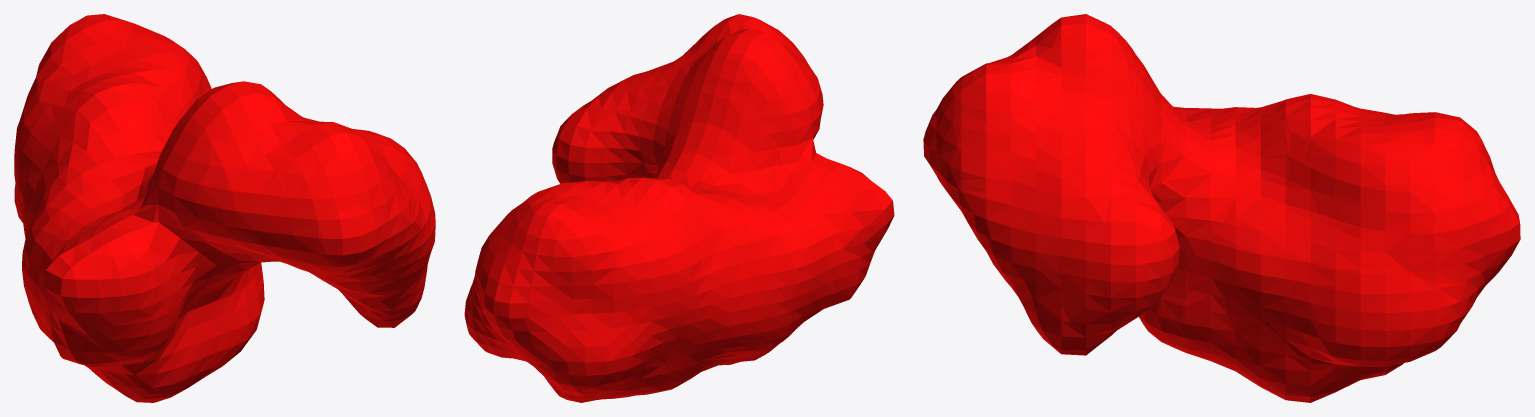
File: yhfA_coarse.dae
The picture shows the model from 3 angles, left to right: view 1: azimuth 30°, elevation 25°; view 2: azimuth 150°, elevation 25°; view 3: azimuth 270°, elevation 25°; orthographic projection. The views are drawn at different scales.
Parts seen in each view (by area): view 1: yhfA; view 2: yhfA; view 3: yhfA.
Part boxes in pixels (bbox=[...]): yhfA: bbox=[14, 14, 435, 402]; yhfA: bbox=[464, 14, 894, 402]; yhfA: bbox=[923, 14, 1520, 402].
Size of the model in its own units: 42.5 by 38.23 by 58.87.
